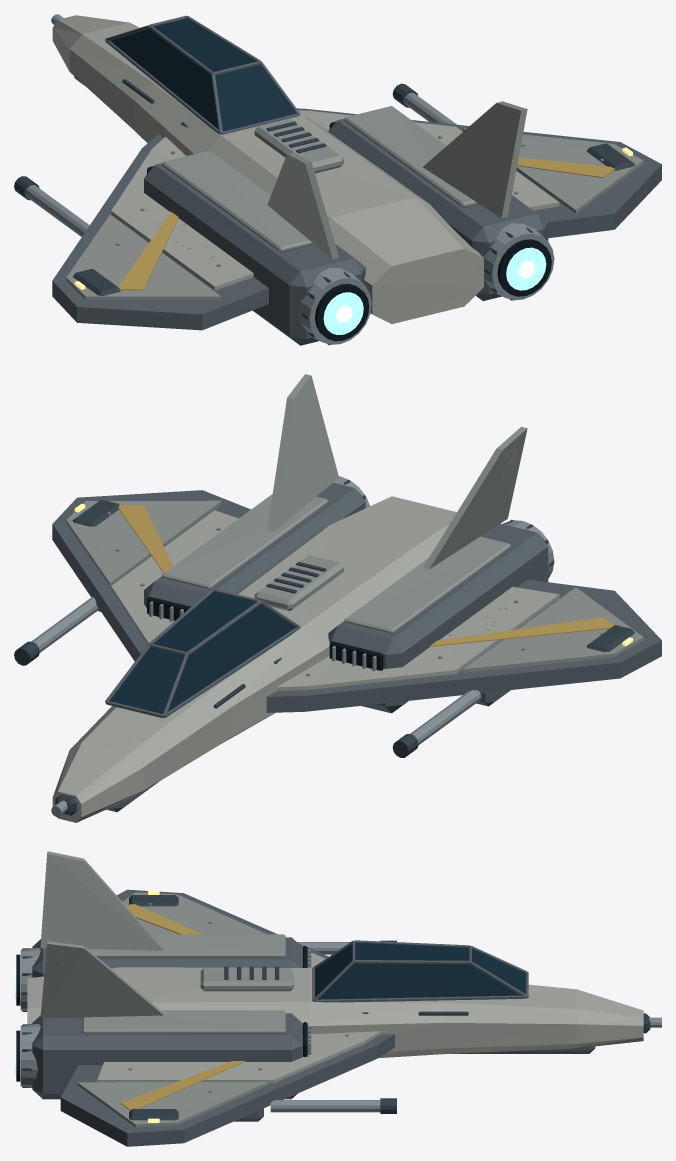
Rendered from kestrel_fleet_a.glb.
3 renders of one model, top to bottom at view 1: azimuth 30°, elevation 25°; view 2: azimuth 150°, elevation 25°; view 3: azimuth 270°, elevation 25°, orthographic. The views are drawn at different scales.
Visible parts, largest first — view 1: SF12_Kestrel_Flotte_A; view 2: SF12_Kestrel_Flotte_A; view 3: SF12_Kestrel_Flotte_A.
Boxes of the visible parts, <box> form: SF12_Kestrel_Flotte_A: <box>14,14,661,345</box>; SF12_Kestrel_Flotte_A: <box>14,374,661,822</box>; SF12_Kestrel_Flotte_A: <box>14,851,661,1146</box>.
Bounding box in the file's own units: 17.3 × 5.05 × 19.45.
